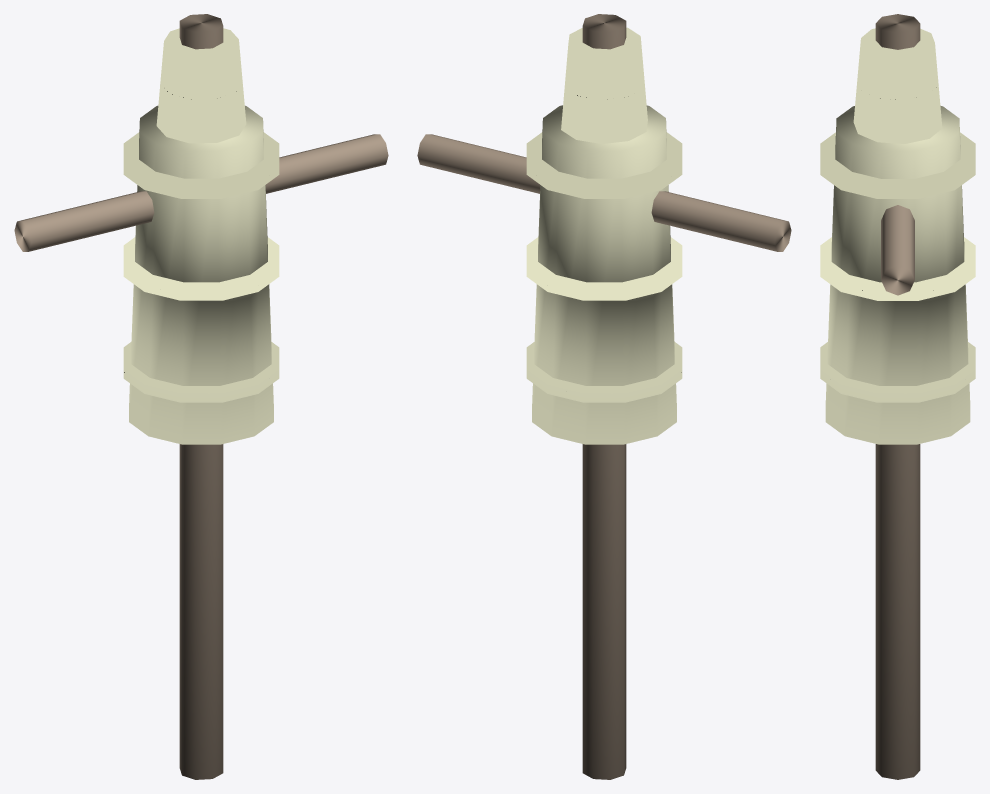
File: dummy.glb
3 renders of one model, left to right at view 1: azimuth 30°, elevation 25°; view 2: azimuth 150°, elevation 25°; view 3: azimuth 270°, elevation 25°, orthographic.
Visible parts, largest first — view 1: dummy; view 2: dummy; view 3: dummy.
Boxes of the visible parts, left/top/right/bottom form: dummy: left=14, top=14, right=388, bottom=779; dummy: left=417, top=14, right=791, bottom=779; dummy: left=820, top=14, right=975, bottom=779.
Size of the model in its own units: 1.1 by 2.2 by 0.4153.
